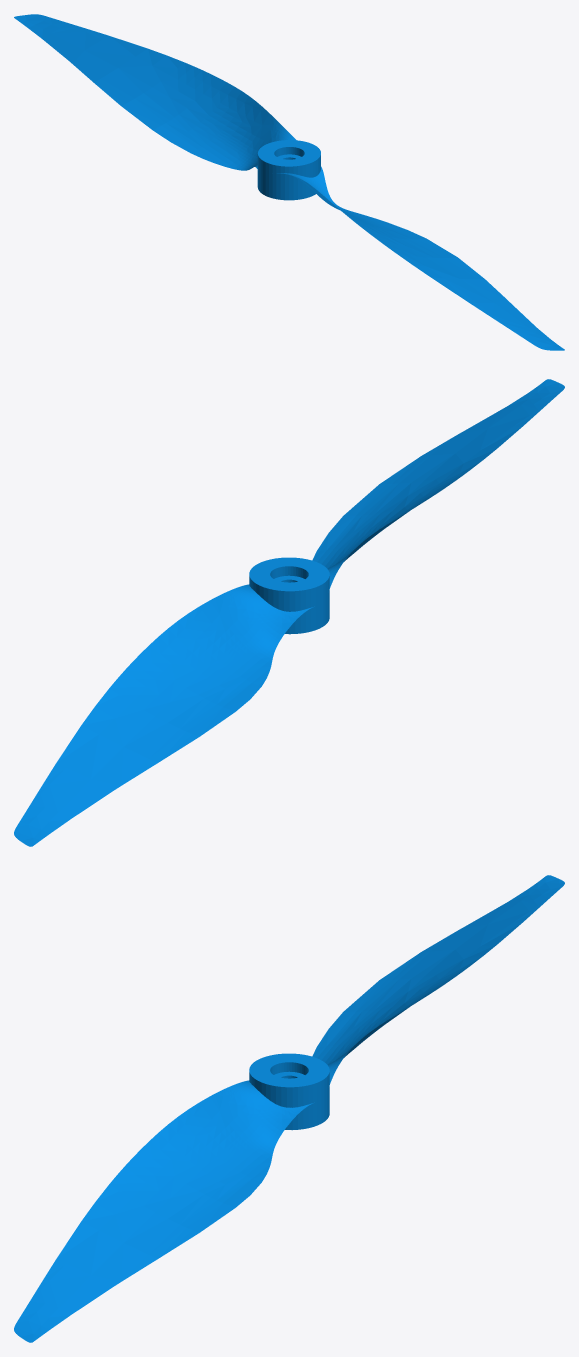
File: FLProp.glb
The picture shows the model from 3 angles, top to bottom: view 1: azimuth 30°, elevation 25°; view 2: azimuth 150°, elevation 25°; view 3: azimuth 330°, elevation 25°; orthographic projection. The views are drawn at different scales.
Visible parts, largest first — view 1: File-1687264231429.004; view 2: File-1687264231429.004; view 3: File-1687264231429.004.
Part boxes in pixels (x1,y1,x2,y2): File-1687264231429.004: (14, 14, 564, 350); File-1687264231429.004: (14, 379, 564, 846); File-1687264231429.004: (14, 875, 564, 1342).
Size of the model in its own units: 3.29 by 1.33 by 27.96.
